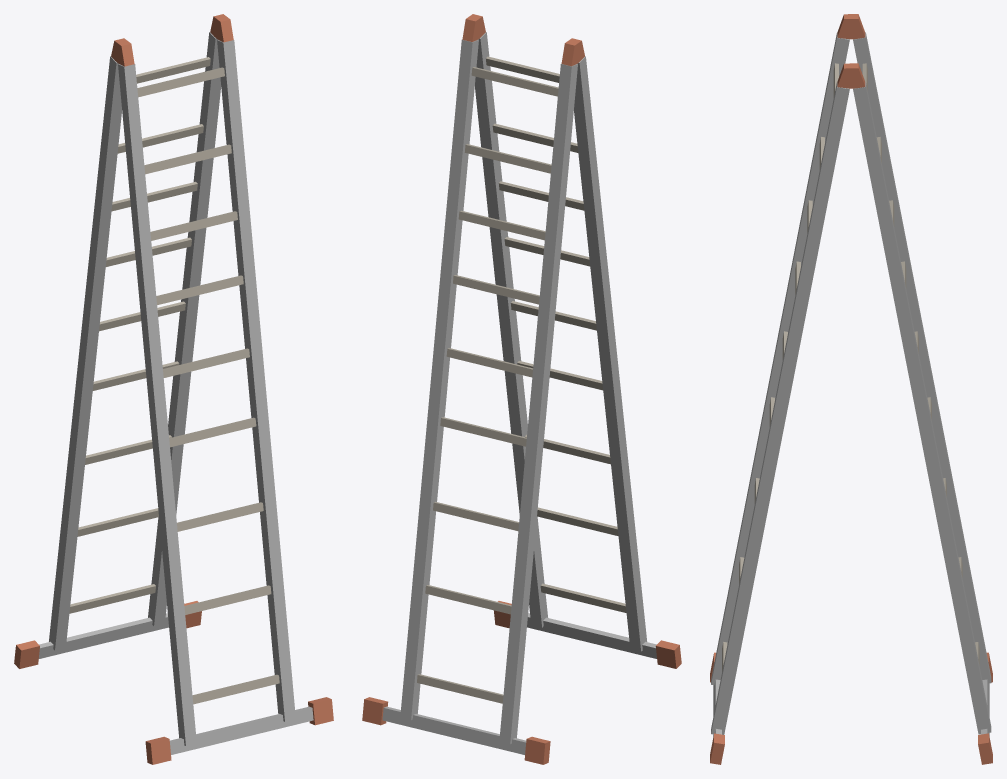
File: SM_Stairs_01.fbx
3 views of the same model, side by side, from view 1: azimuth 30°, elevation 25°; view 2: azimuth 150°, elevation 25°; view 3: azimuth 270°, elevation 25° (orthographic). The views are drawn at different scales.
Parts seen in each view (by area): view 1: SM_Stairs_01; view 2: SM_Stairs_01; view 3: SM_Stairs_01.
Boxes of the visible parts, x1,y1,x2,y2 form: SM_Stairs_01: (14, 14, 333, 764); SM_Stairs_01: (362, 14, 681, 764); SM_Stairs_01: (710, 14, 992, 764).
Bounding box in the file's own units: 88.29 × 309 × 117.
